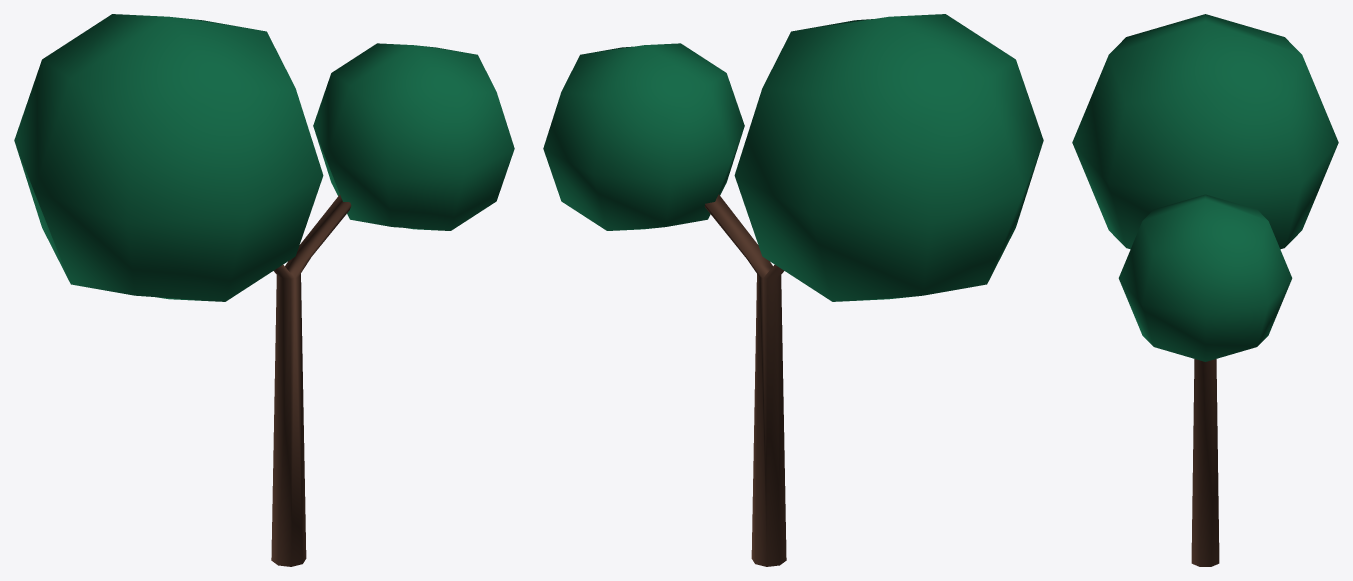
Rendered from Tree2.fbx.
The picture shows the model from 3 angles, left to right: view 1: azimuth 30°, elevation 25°; view 2: azimuth 150°, elevation 25°; view 3: azimuth 270°, elevation 25°; orthographic projection. The views are drawn at different scales.
Visible parts, largest first — view 1: Tree; view 2: Tree; view 3: Tree.
Part boxes in pixels (x1,y1,x2,y2): Tree: (14,14,514,566); Tree: (543,14,1043,566); Tree: (1072,14,1338,566).
Size of the model in its own units: 445 by 520 by 257.
